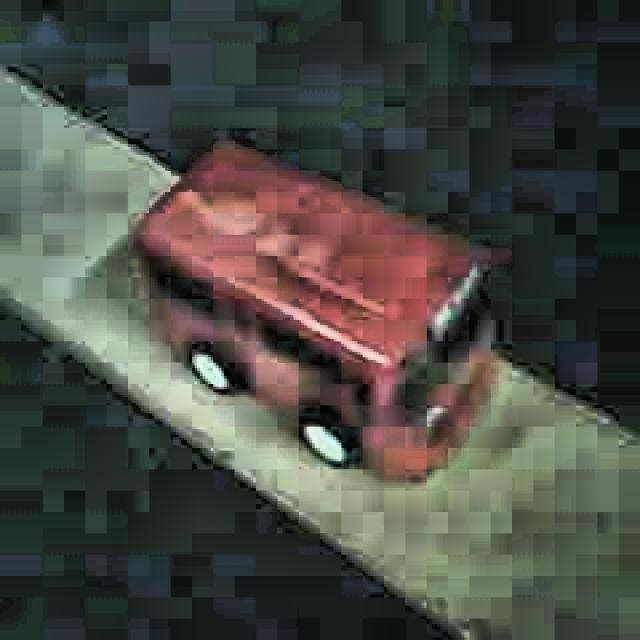bus: (128, 143, 495, 485)
